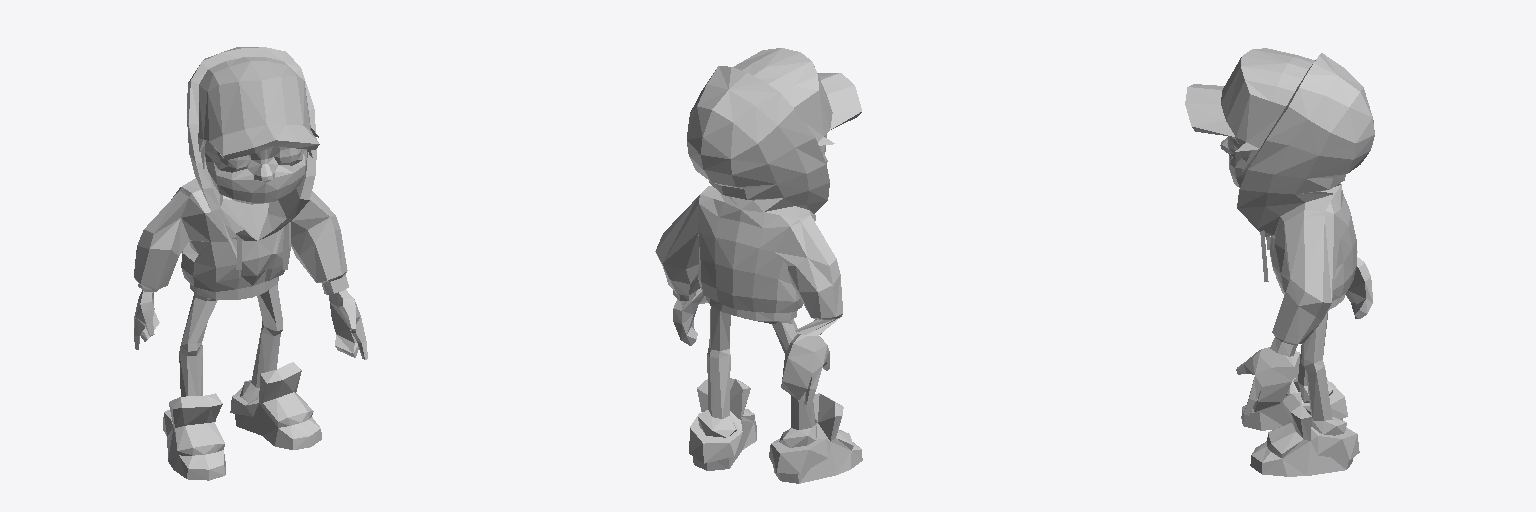
The model's file is jake1.obj.
The picture shows the model from 3 angles: view 1: azimuth 30°, elevation 25°; view 2: azimuth 150°, elevation 25°; view 3: azimuth 270°, elevation 25°; orthographic projection.
Parts seen in each view (by area): view 1: Object_4; view 2: Object_4; view 3: Object_4.
Part boxes in pixels (x1,y1,x2,y2): Object_4: (134, 47, 367, 480); Object_4: (655, 48, 862, 483); Object_4: (1185, 48, 1374, 476).
Bounding box in the file's own units: 0.0469 × 0.0915 × 0.0405.